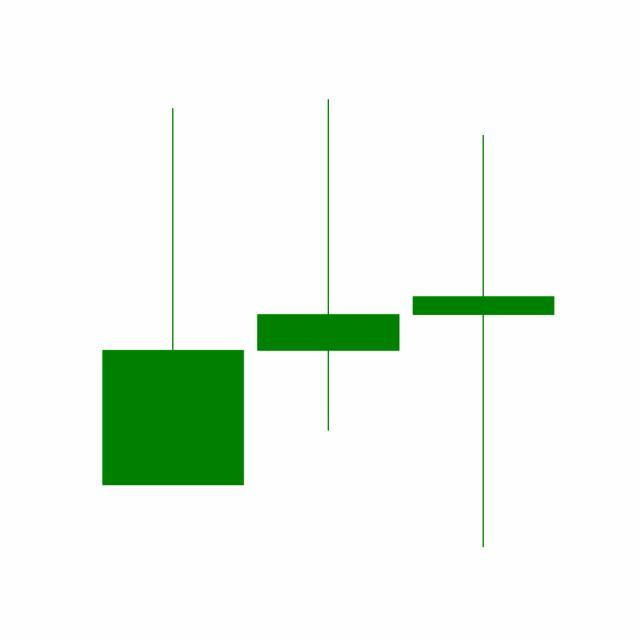Spinning Top: (250, 97, 407, 436)
